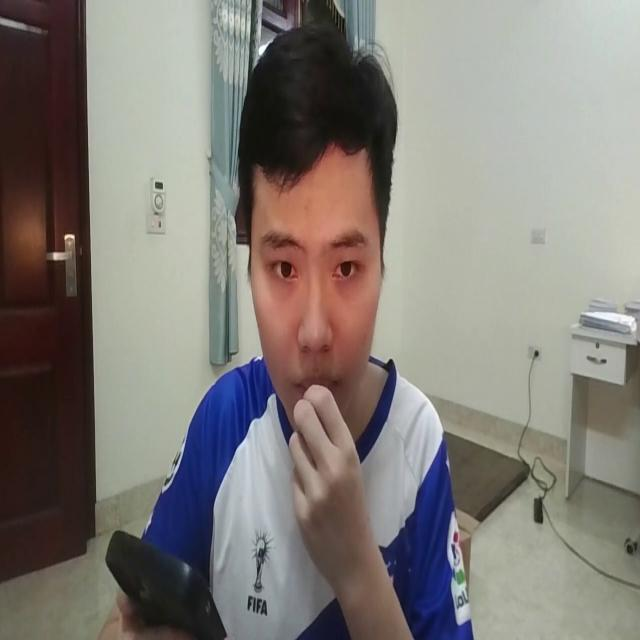phone: (91, 492, 244, 640)
student: (88, 21, 510, 640)
